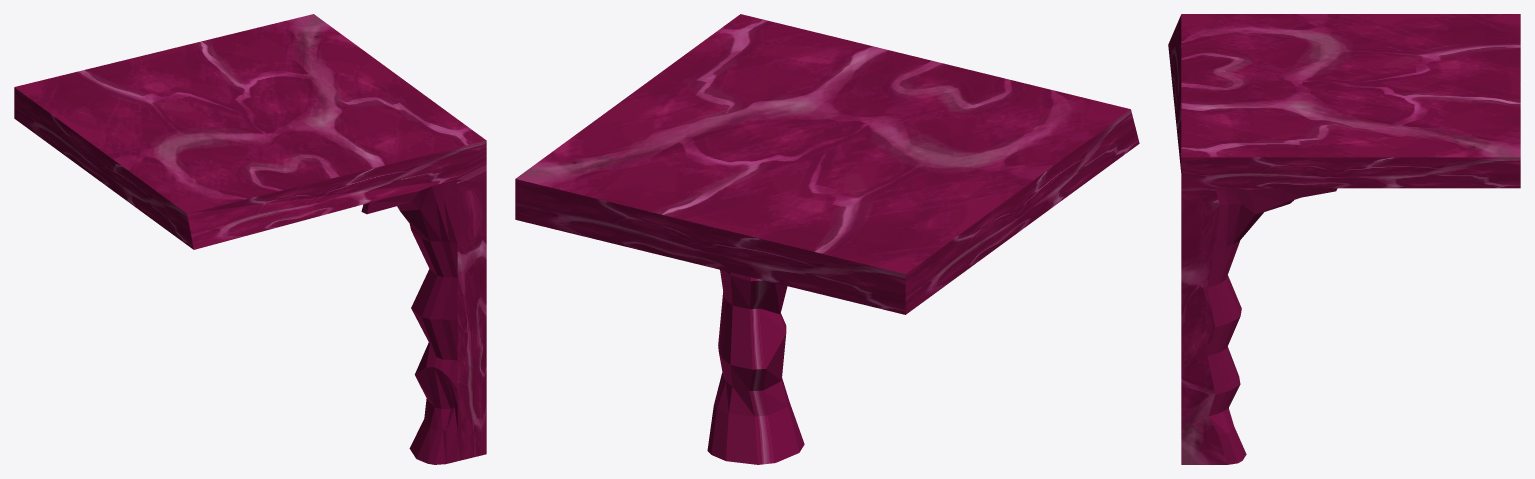
The model's file is EspacioPornoEsquinaAperturaInteriorAltoNS.gltf.
3 views of the same model, side by side, from view 1: azimuth 30°, elevation 25°; view 2: azimuth 150°, elevation 25°; view 3: azimuth 270°, elevation 25° (orthographic). The views are drawn at different scales.
Parts seen in each view (by area): view 1: Cubo.41; view 2: Cubo.41; view 3: Cubo.41.
Part boxes in pixels (box(x1,y1,x2,y2)): Cubo.41: box(14, 14, 486, 464); Cubo.41: box(515, 14, 1139, 464); Cubo.41: box(1168, 14, 1520, 464).
Size of the model in its own units: 2 by 2 by 2.08.
1 material, 1 textured.
